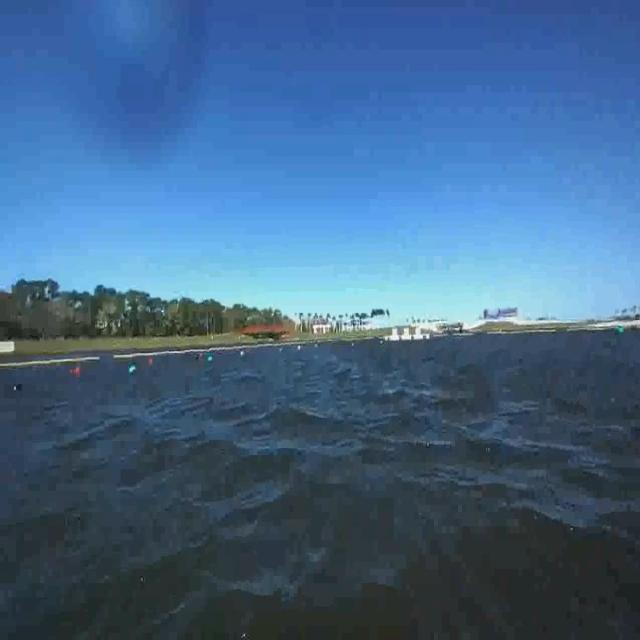green-buoy: (618, 325, 626, 334)
red-buoy: (74, 367, 81, 372)
